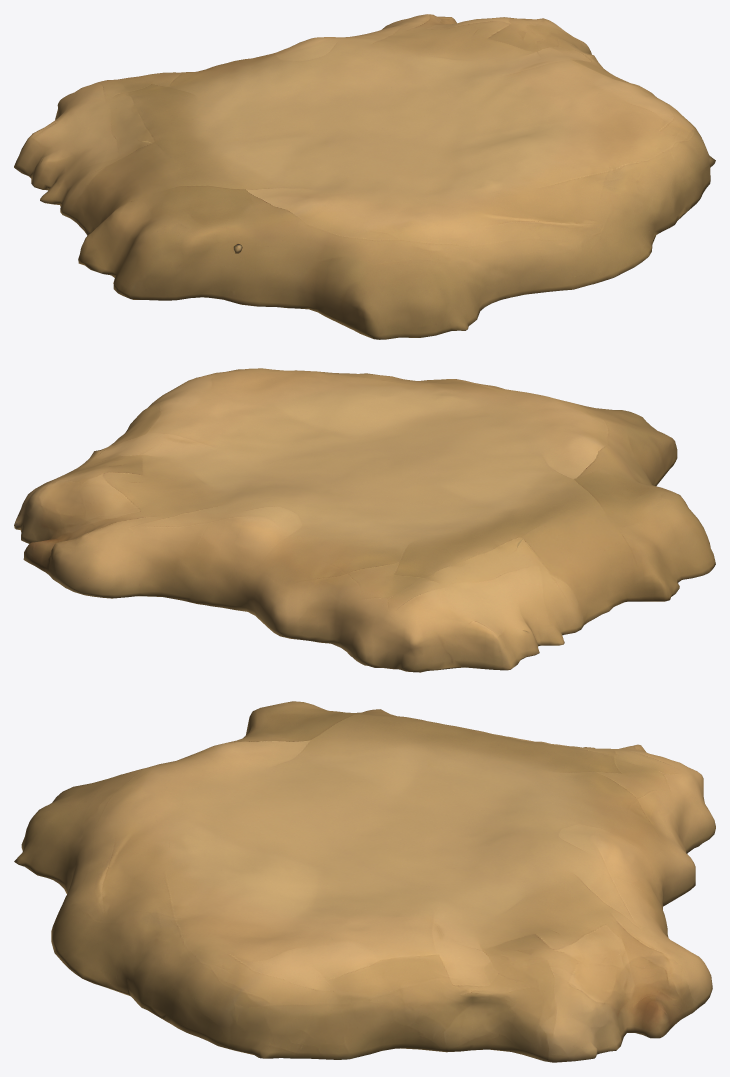
File: island_5.glb
3 views of the same model, one above another, from view 1: azimuth 30°, elevation 25°; view 2: azimuth 150°, elevation 25°; view 3: azimuth 270°, elevation 25° (orthographic). The views are drawn at different scales.
Size of the model in its own units: 1.91 by 0.2309 by 1.76.
Materials: 1 (1 with a texture image).
